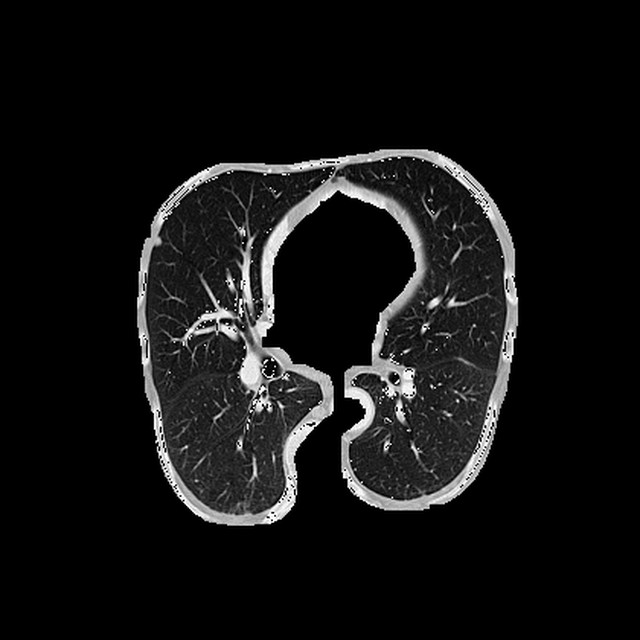PN: (155, 238, 162, 244)
